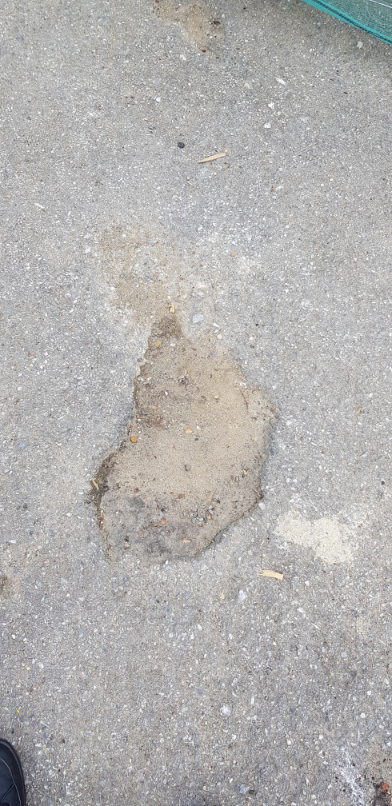pothole: (83, 308, 284, 569)
